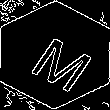M_NE: (18, 22, 92, 88)
